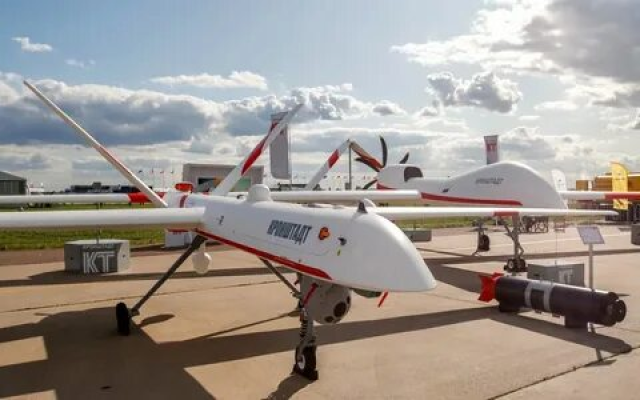military drone: (0, 78, 620, 380), (225, 134, 640, 272)
